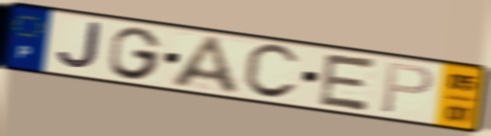A: (167, 33, 244, 97)
C: (240, 42, 302, 101)
E: (315, 51, 380, 114)
G: (107, 25, 164, 81)
J: (54, 20, 103, 72)
P: (378, 60, 436, 116)
